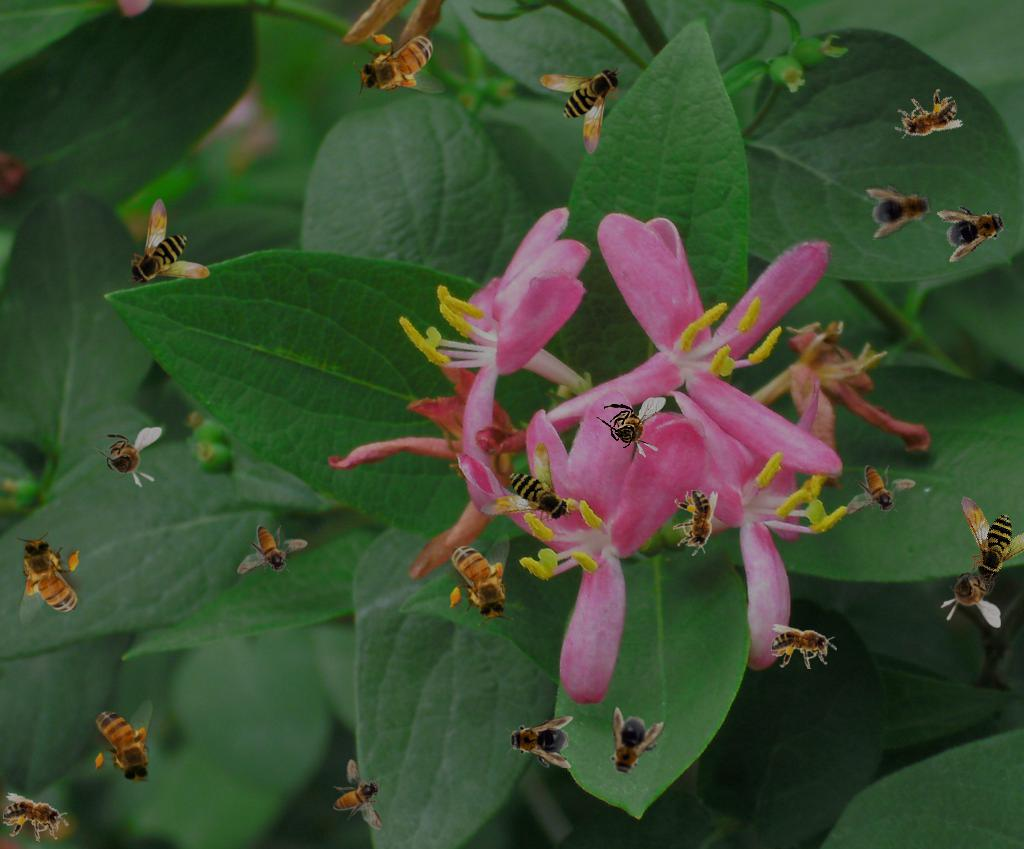Bee: (466, 439, 574, 541), (936, 468, 1024, 588), (540, 67, 622, 155), (128, 198, 210, 286), (90, 697, 158, 790), (446, 533, 514, 626), (15, 532, 83, 625), (353, 30, 446, 98), (934, 193, 1016, 263), (596, 706, 666, 786), (886, 83, 966, 152), (862, 175, 940, 241), (940, 558, 1001, 628), (92, 427, 162, 488), (596, 397, 666, 458), (0, 792, 72, 845), (845, 465, 916, 515), (237, 525, 308, 575), (333, 759, 383, 830), (505, 716, 573, 768), (771, 624, 837, 669), (673, 490, 718, 556)
